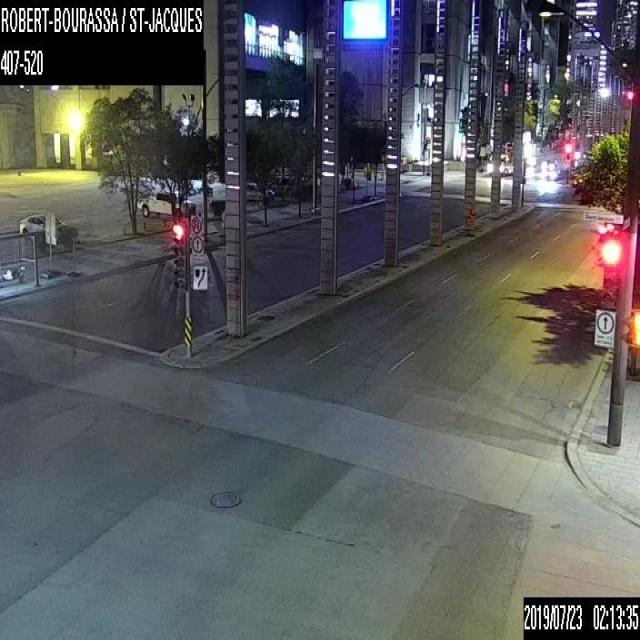construction: (466, 204, 474, 235)
vehicle: (136, 191, 198, 219), (18, 212, 75, 240), (245, 181, 274, 201), (486, 153, 509, 175)
